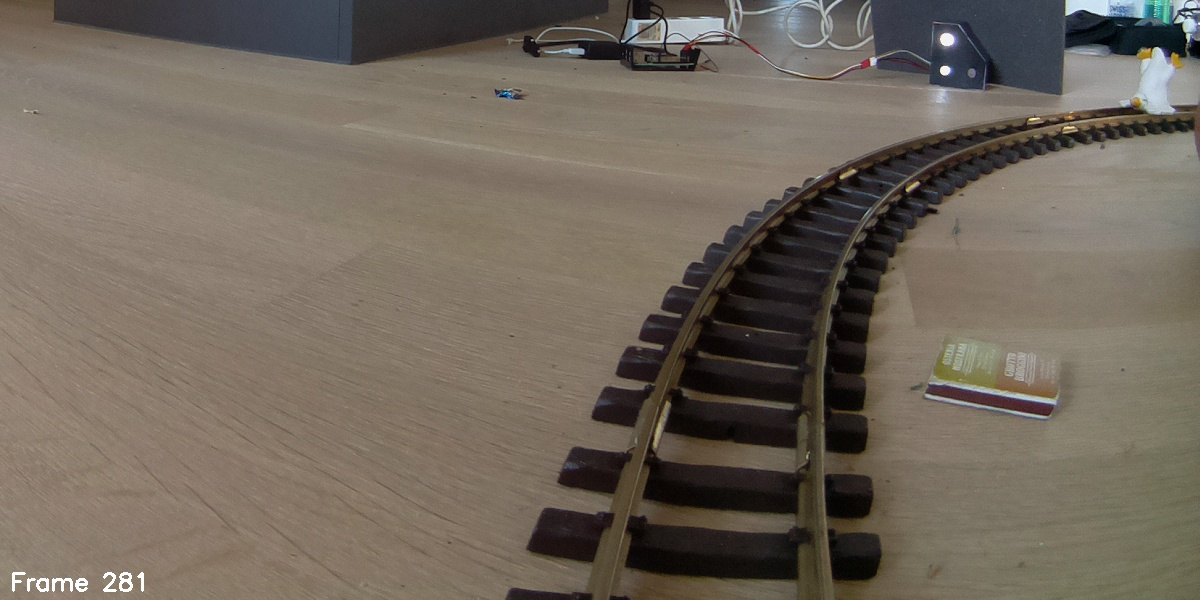Ente: (1126, 46, 1187, 122)
Fahrt: (929, 20, 991, 93)
